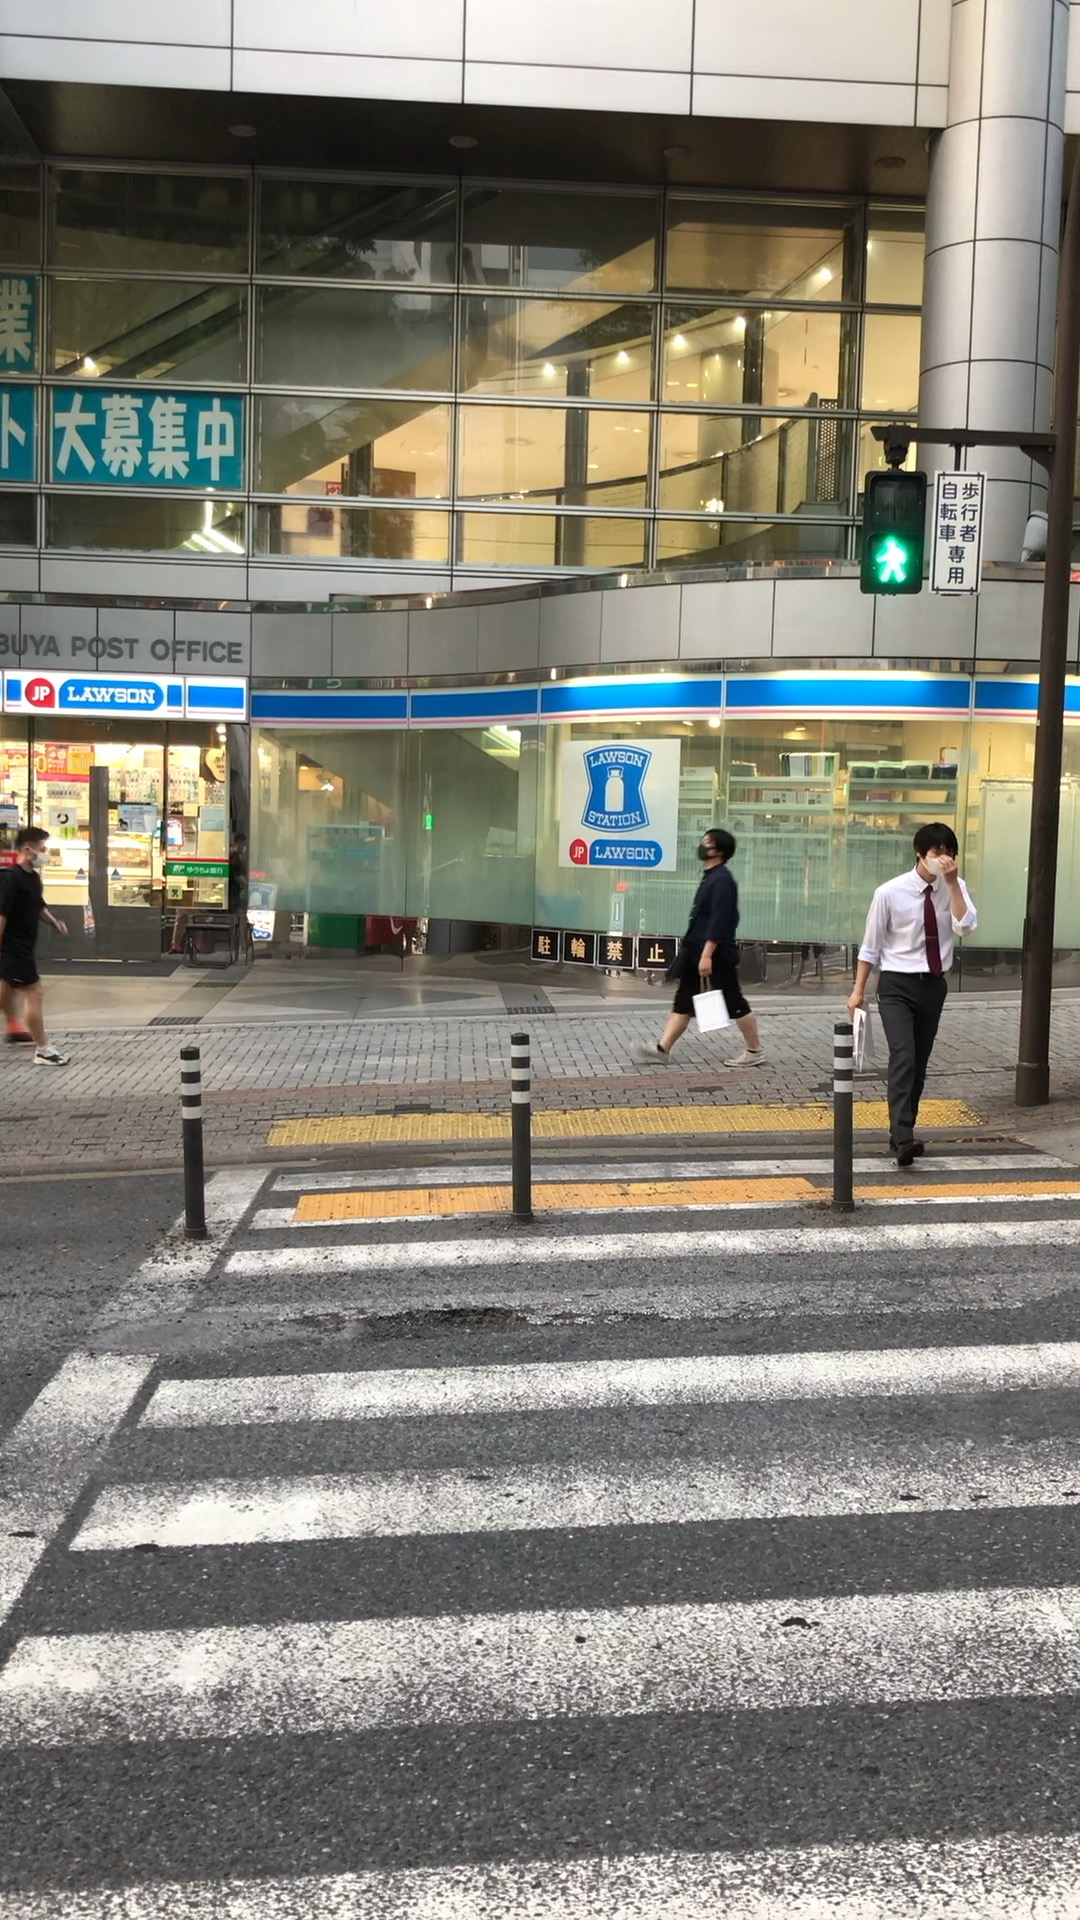green: (864, 471, 924, 593)
